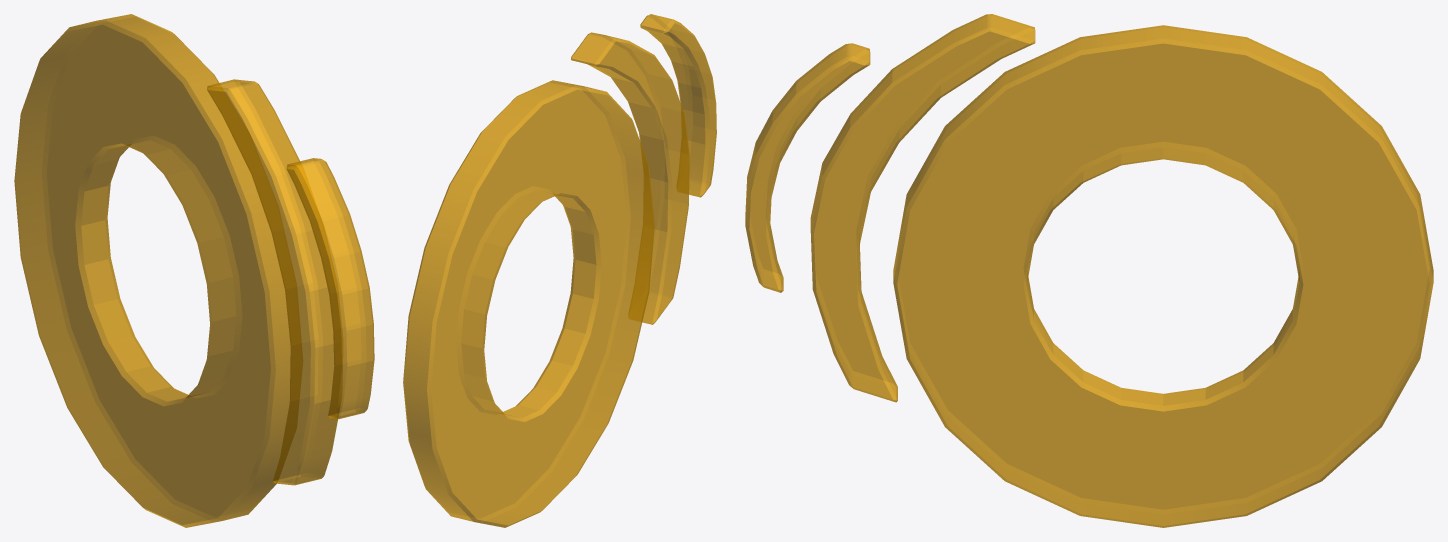
The model's file is SpeedBoost.fbx.
The picture shows the model from 3 angles, left to right: view 1: azimuth 30°, elevation 25°; view 2: azimuth 150°, elevation 25°; view 3: azimuth 270°, elevation 25°; orthographic projection. The views are drawn at different scales.
Parts seen in each view (by area): view 1: pCylinder18, pCube2, pCube3; view 2: pCylinder18, pCube2, pCube3; view 3: pCylinder18, pCube2, pCube3.
Part boxes in pixels (box(x1,y1,x2,y2)): pCylinder18: box(14, 14, 290, 527); pCube2: box(207, 79, 337, 485); pCube3: box(286, 158, 374, 419); pCylinder18: box(403, 80, 654, 527); pCube2: box(571, 32, 689, 324); pCube3: box(640, 14, 716, 197); pCylinder18: box(893, 25, 1433, 527); pCube2: box(810, 14, 1035, 402); pCube3: box(745, 43, 870, 292).
Bounding box in the file's own units: 0.2258 × 3.2 × 3.99.
